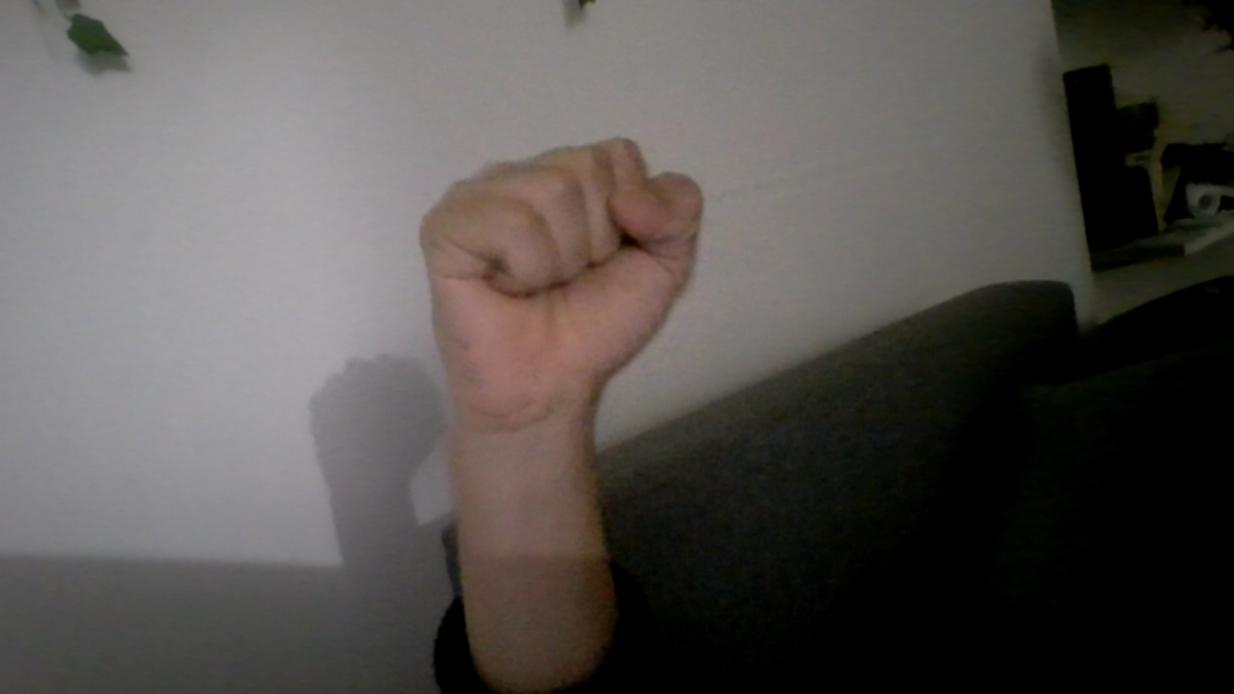stop: (388, 121, 726, 425)
